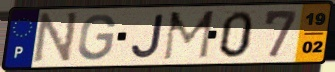0: (218, 9, 257, 60)
7: (263, 9, 299, 59)
G: (76, 13, 118, 62)
J: (129, 13, 166, 60)
M: (161, 8, 217, 62)
N: (30, 10, 81, 65)
